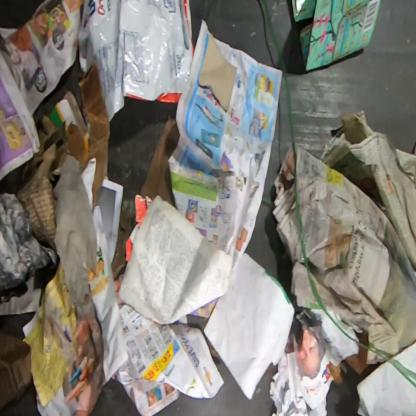cardboard: (18, 62, 110, 254), (293, 1, 382, 71), (198, 32, 237, 112), (0, 331, 34, 411)
soft_plastic: (77, 0, 194, 120)
